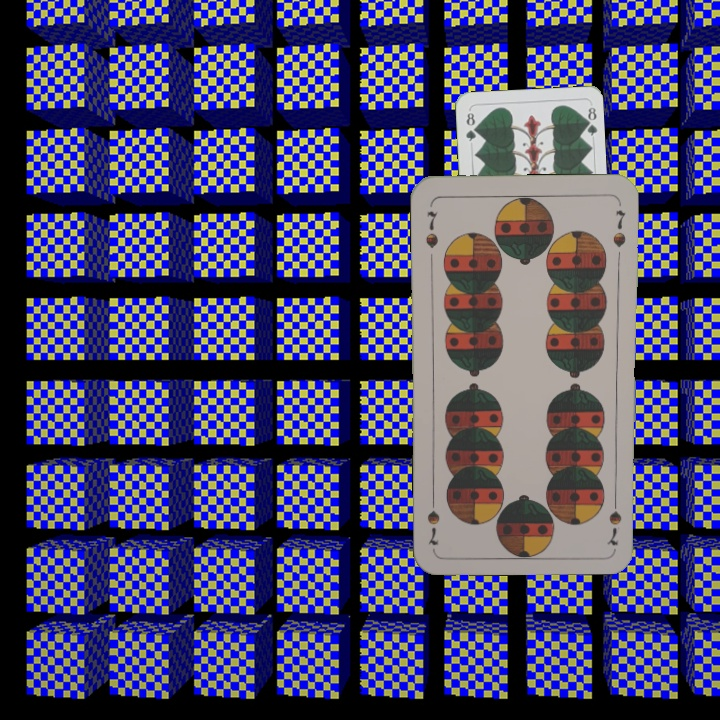G8: (461, 106, 479, 144)
S7: (421, 207, 440, 250), (606, 489, 624, 528)
